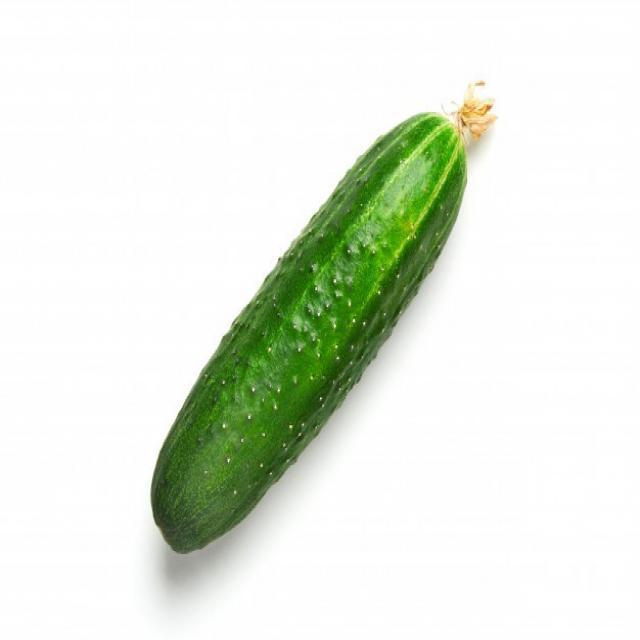cucumber: (145, 108, 470, 560)
